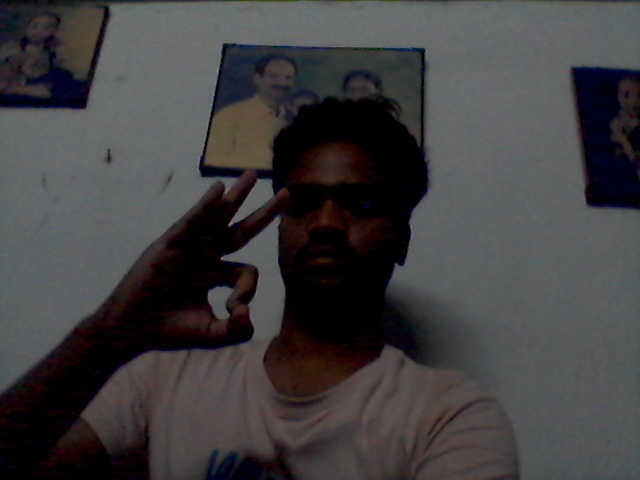Nice: (99, 168, 293, 358)
Not Ok: (103, 165, 294, 380)
